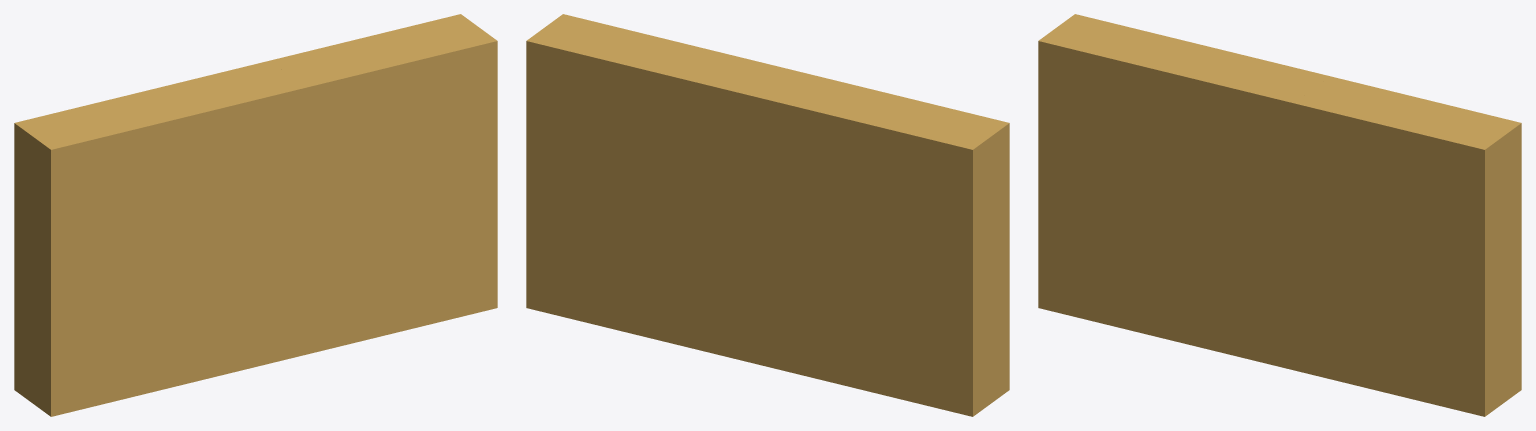
The model's file is pared3c.obj.
The picture shows the model from 3 angles, left to right: view 1: azimuth 30°, elevation 25°; view 2: azimuth 150°, elevation 25°; view 3: azimuth 330°, elevation 25°; orthographic projection.
Visible parts, largest first — view 1: Wall.008; view 2: Wall.008; view 3: Wall.008.
Part boxes in pixels (x1,y1,x2,y2): Wall.008: (14,14,497,416); Wall.008: (526,14,1009,416); Wall.008: (1038,14,1521,416).
Bounding box in the file's own units: 7 × 4 × 1.
Materials: 4 (4 with a texture image).
